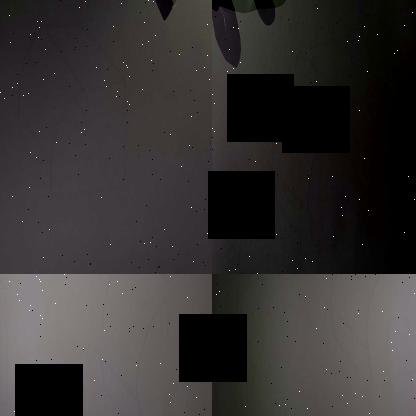NUTS: (212, 0, 229, 22), (246, 0, 277, 9)
